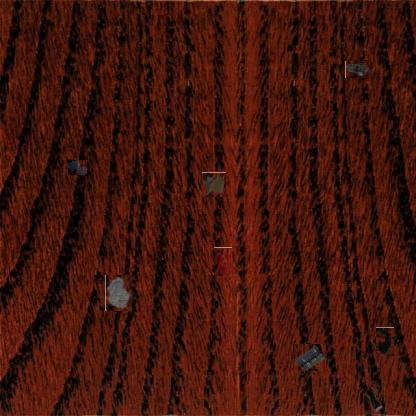dirty: (105, 275, 132, 311), (292, 343, 326, 371), (363, 388, 385, 416), (202, 172, 226, 197), (374, 330, 397, 354), (345, 60, 372, 78)
liquid: (214, 247, 233, 276), (67, 159, 87, 175)
